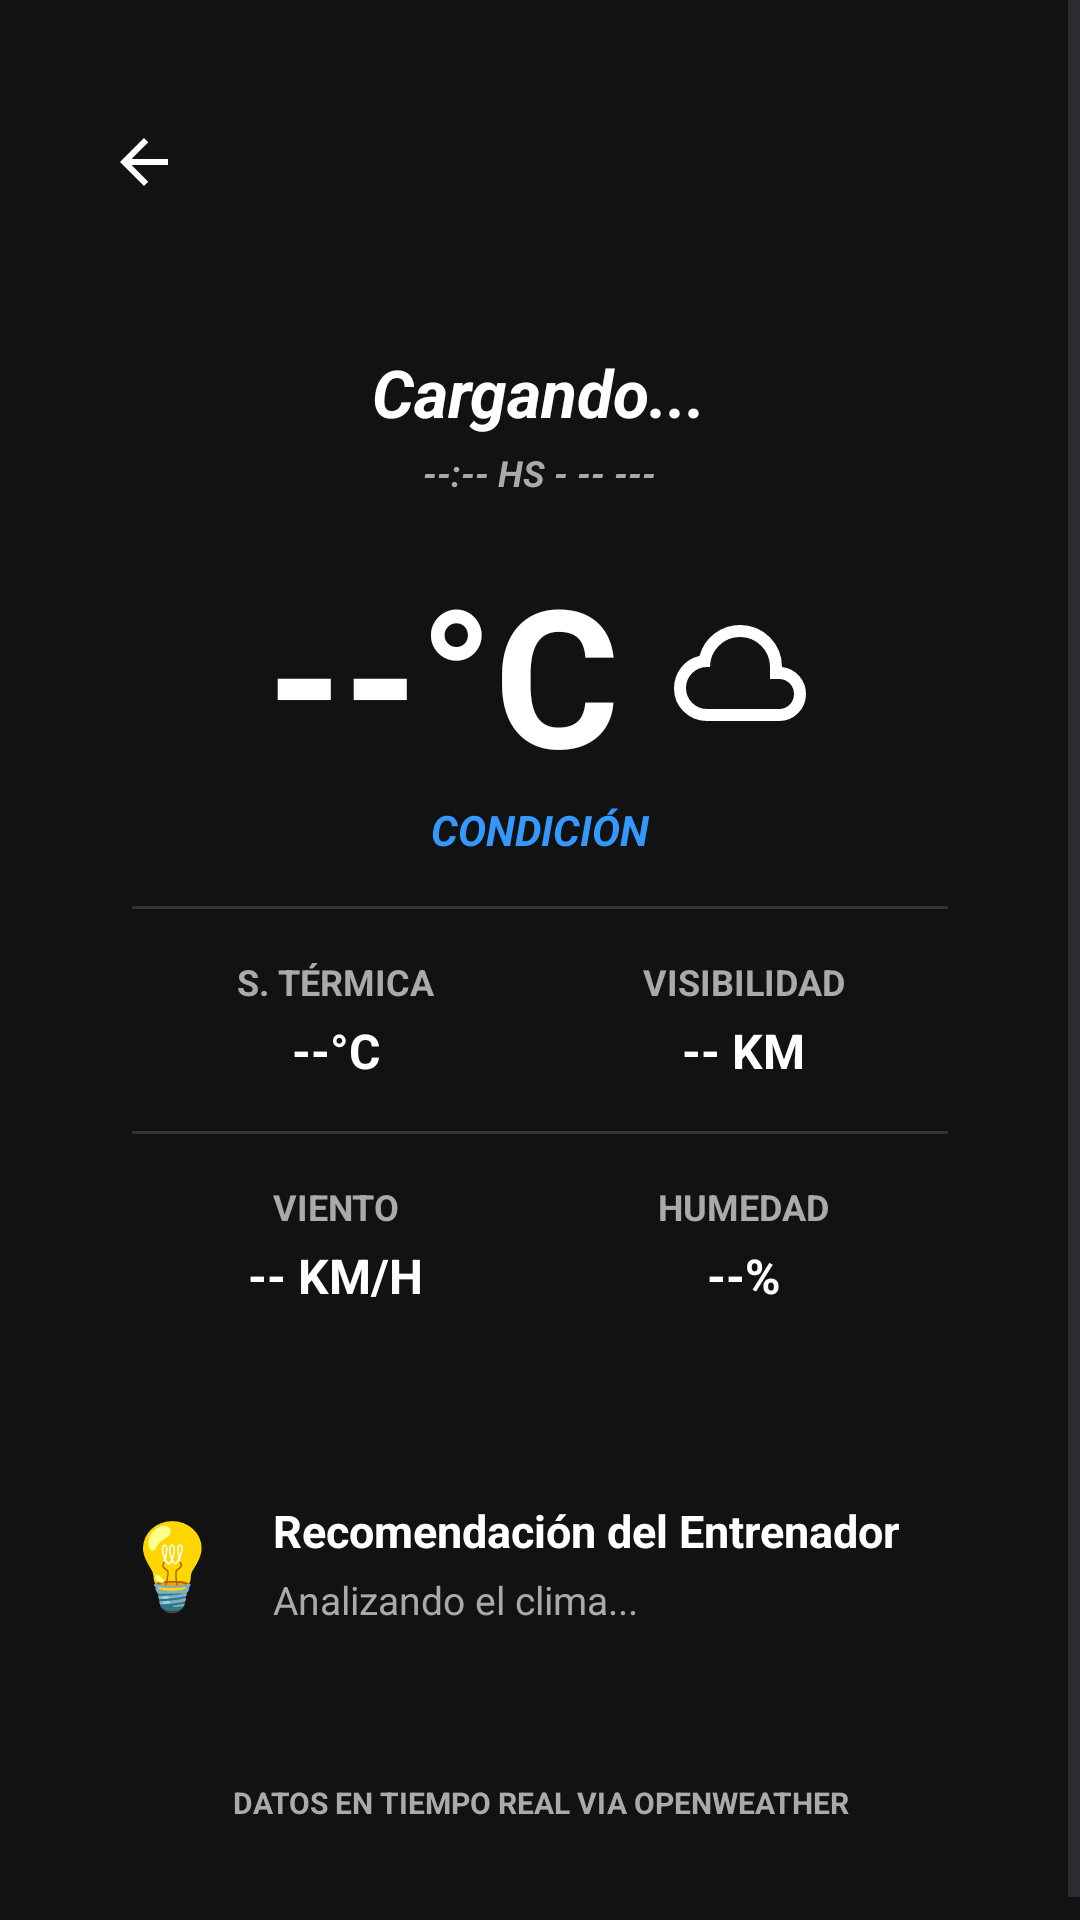

Icons on this 1080*1920 Android screen, each with its box as [x1=x1, y1=y1, x2=x2, y2=y2]:
clima: [x1=674, y1=625, x2=806, y2=721]
Volver: [x1=120, y1=138, x2=168, y2=186]
